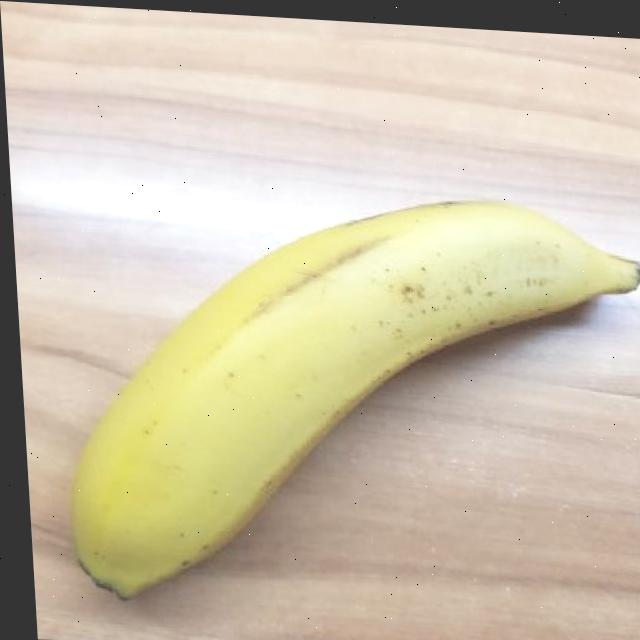banana: (41, 162, 640, 640)
